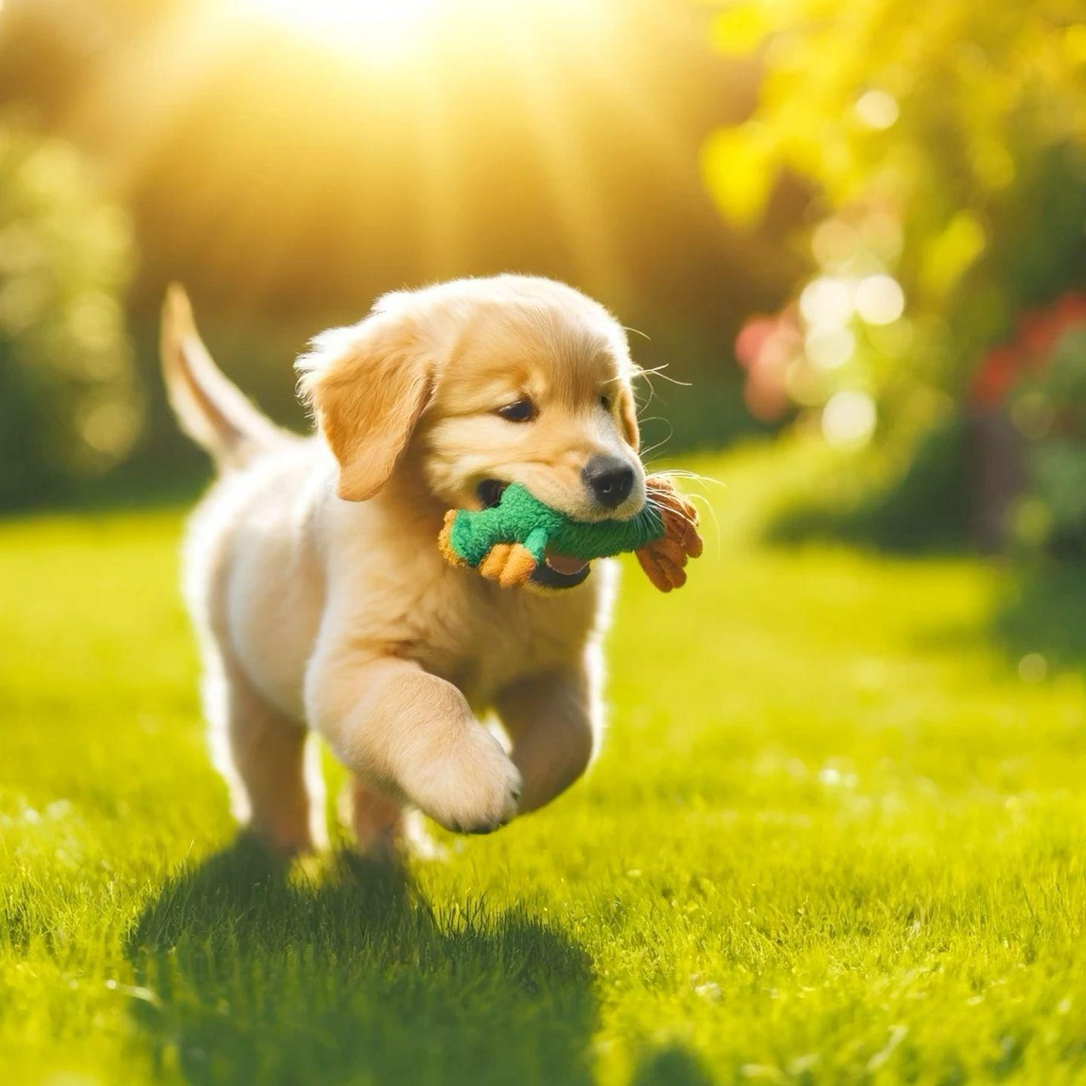puppy-dog: (156, 267, 652, 869)
